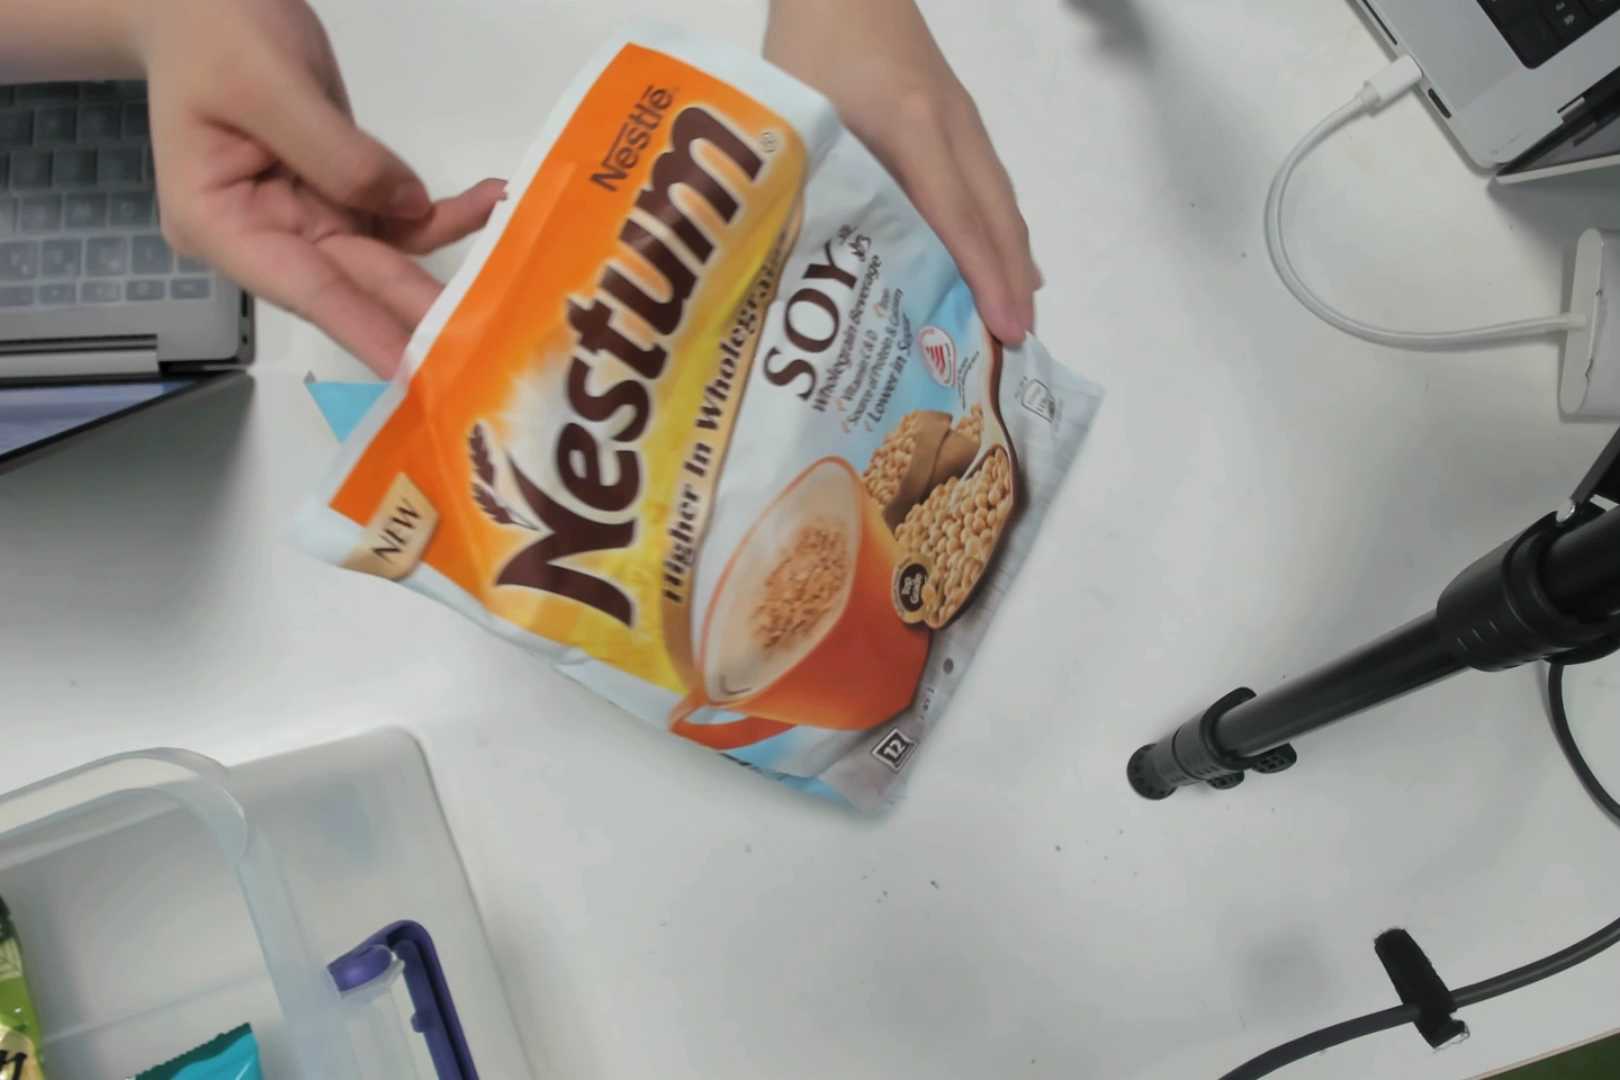e: (501, 127, 1009, 798)
